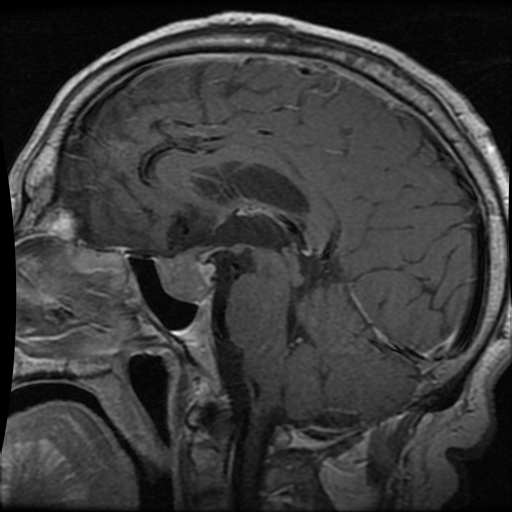pituitary: (152, 248, 214, 304)
